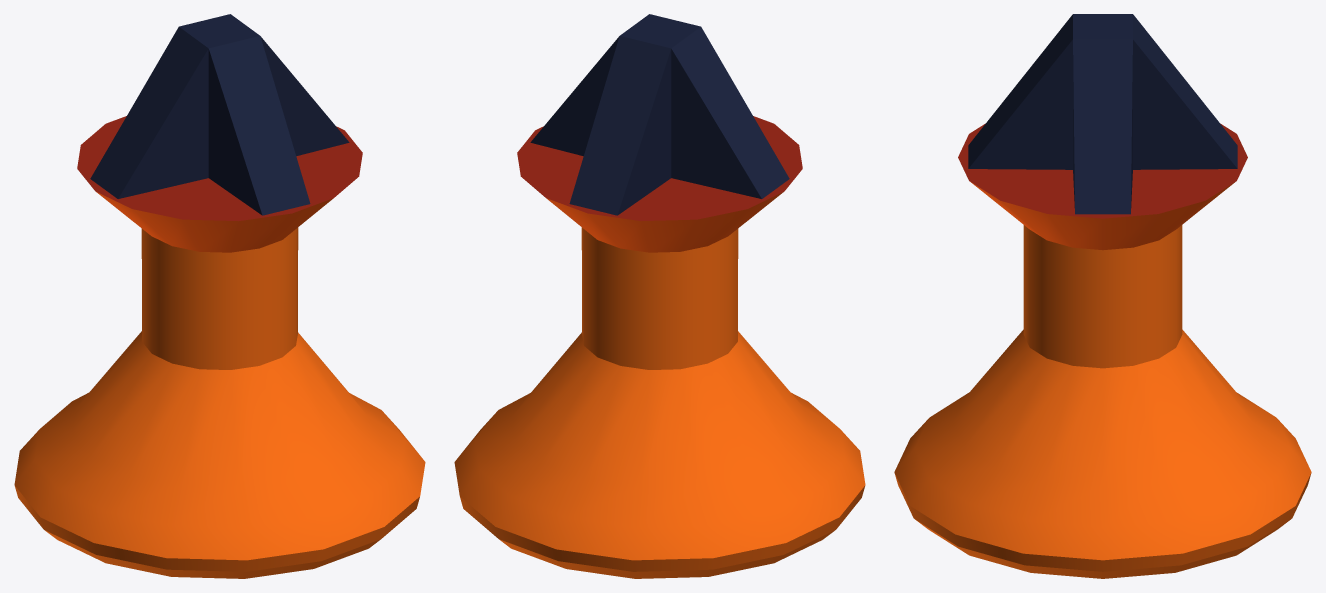
Rendered from enemyPiece.fbx.
The picture shows the model from 3 angles, left to right: view 1: azimuth 30°, elevation 25°; view 2: azimuth 150°, elevation 25°; view 3: azimuth 270°, elevation 25°; orthographic projection.
Visible parts, largest first — view 1: enemyPiece; view 2: enemyPiece; view 3: enemyPiece.
Part boxes in pixels (x1,y1,x2,y2): enemyPiece: (14, 14, 425, 578); enemyPiece: (454, 14, 865, 578); enemyPiece: (894, 14, 1311, 578).
Size of the model in its own units: 151 by 189 by 151.
